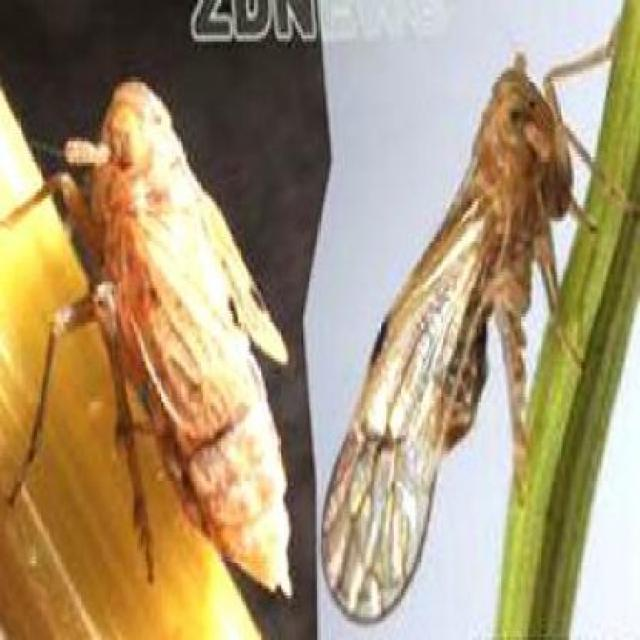brown-planthopper: (323, 49, 579, 629), (66, 75, 299, 608)
